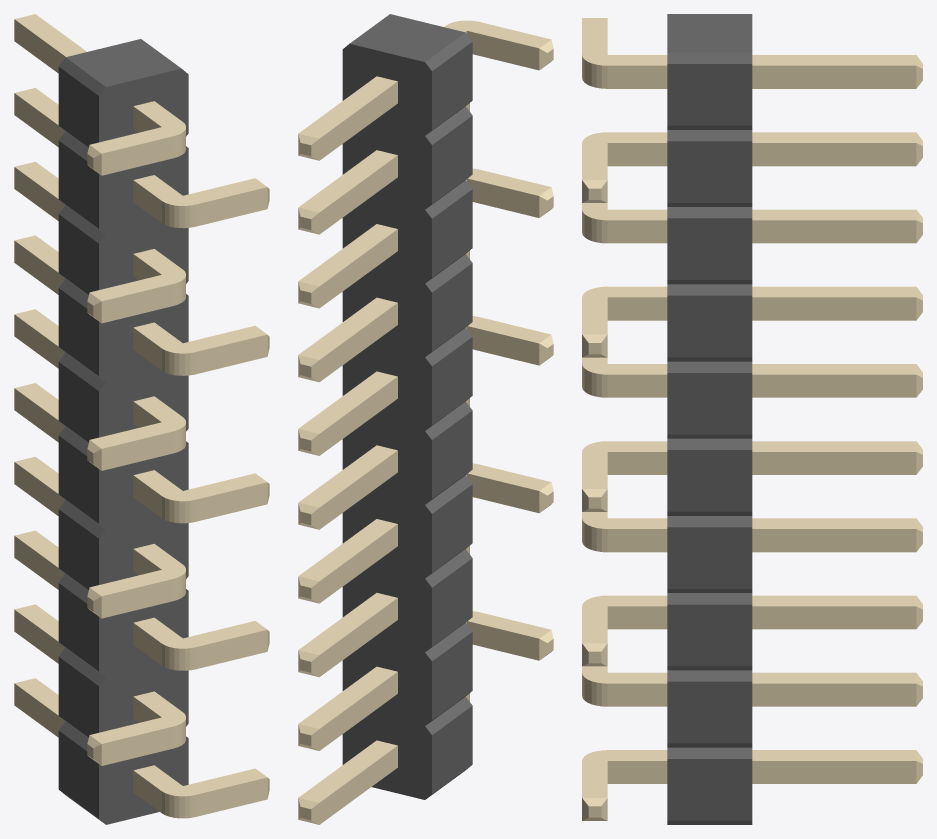
Rendered from PinHeader_1x10_P1.00mm_Vertical_SMD_Pin1Right.glb.
3 views of the same model, side by side, from view 1: azimuth 30°, elevation 25°; view 2: azimuth 150°, elevation 25°; view 3: azimuth 270°, elevation 25° (orthographic). The views are drawn at different scales.
Parts seen in each view (by area): view 1: Shape_IndexedFaceSet.003, Shape_IndexedFaceSet.001, Shape_IndexedFaceSet.013, Shape_IndexedFaceSet.049, Shape_IndexedFaceSet.025, Shape_IndexedFaceSet.037, Shape_IndexedFaceSet.061, Shape_IndexedFaceSet.019, Shape_IndexedFaceSet.043, Shape_IndexedFaceSet.055, Shape_IndexedFaceSet.031, Shape_IndexedFaceSet.007 (+55 smaller); view 2: Shape_IndexedFaceSet.004, Shape_IndexedFaceSet.001, Shape_IndexedFaceSet.031, Shape_IndexedFaceSet.007, Shape_IndexedFaceSet.013, Shape_IndexedFaceSet.019, Shape_IndexedFaceSet.025, Shape_IndexedFaceSet.037, Shape_IndexedFaceSet.043, Shape_IndexedFaceSet.049, Shape_IndexedFaceSet.055, Shape_IndexedFaceSet.061 (+40 smaller); view 3: Shape_IndexedFaceSet.022, Shape_IndexedFaceSet.046, Shape_IndexedFaceSet.052, Shape_IndexedFaceSet.002, Shape_IndexedFaceSet.010, Shape_IndexedFaceSet.016, Shape_IndexedFaceSet.028, Shape_IndexedFaceSet.034, Shape_IndexedFaceSet.040, Shape_IndexedFaceSet.058, Shape_IndexedFaceSet.111, Shape_IndexedFaceSet.106 (+54 smaller).
Part boxes in pixels (bbox=[...]): Shape_IndexedFaceSet.003: bbox=[99, 68, 188, 824]; Shape_IndexedFaceSet.001: bbox=[66, 39, 181, 86]; Shape_IndexedFaceSet.013: bbox=[58, 141, 98, 228]; Shape_IndexedFaceSet.049: bbox=[58, 583, 98, 671]; Shape_IndexedFaceSet.025: bbox=[58, 288, 98, 375]; Shape_IndexedFaceSet.037: bbox=[58, 436, 98, 523]; Shape_IndexedFaceSet.061: bbox=[58, 731, 98, 818]; Shape_IndexedFaceSet.019: bbox=[58, 214, 98, 294]; Shape_IndexedFaceSet.043: bbox=[58, 509, 98, 589]; Shape_IndexedFaceSet.055: bbox=[58, 657, 98, 737]; Shape_IndexedFaceSet.031: bbox=[58, 362, 98, 442]; Shape_IndexedFaceSet.007: bbox=[58, 67, 98, 147]; Shape_IndexedFaceSet.004: bbox=[342, 43, 431, 799]; Shape_IndexedFaceSet.001: bbox=[350, 14, 465, 61]; Shape_IndexedFaceSet.031: bbox=[432, 337, 472, 425]; Shape_IndexedFaceSet.007: bbox=[432, 42, 472, 129]; Shape_IndexedFaceSet.013: bbox=[432, 116, 472, 203]; Shape_IndexedFaceSet.019: bbox=[432, 189, 472, 277]; Shape_IndexedFaceSet.025: bbox=[432, 263, 472, 351]; Shape_IndexedFaceSet.037: bbox=[432, 410, 472, 498]; Shape_IndexedFaceSet.043: bbox=[432, 484, 472, 572]; Shape_IndexedFaceSet.049: bbox=[432, 558, 472, 646]; Shape_IndexedFaceSet.055: bbox=[432, 632, 472, 720]; Shape_IndexedFaceSet.061: bbox=[432, 706, 472, 793]; Shape_IndexedFaceSet.022: bbox=[667, 295, 752, 357]; Shape_IndexedFaceSet.046: bbox=[667, 604, 752, 666]; Shape_IndexedFaceSet.052: bbox=[667, 681, 752, 743]; Shape_IndexedFaceSet.002: bbox=[667, 64, 752, 125]; Shape_IndexedFaceSet.010: bbox=[667, 141, 752, 202]; Shape_IndexedFaceSet.016: bbox=[667, 218, 752, 279]; Shape_IndexedFaceSet.028: bbox=[667, 373, 752, 434]; Shape_IndexedFaceSet.034: bbox=[667, 450, 752, 511]; Shape_IndexedFaceSet.040: bbox=[667, 527, 752, 588]; Shape_IndexedFaceSet.058: bbox=[667, 759, 752, 820]; Shape_IndexedFaceSet.111: bbox=[752, 297, 916, 320]; Shape_IndexedFaceSet.106: bbox=[752, 374, 916, 397].
Bounding box in the file's own units: 0.984 × 3.94 × 1.58.
